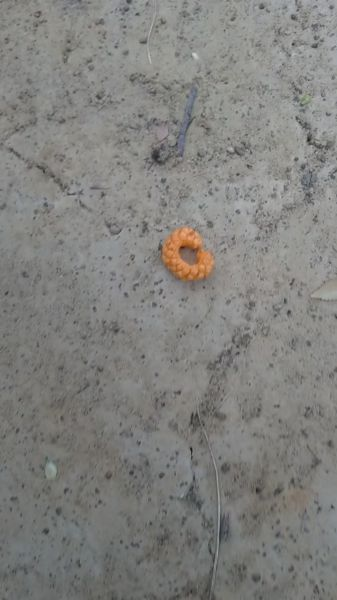eggs: (162, 222, 221, 287)
